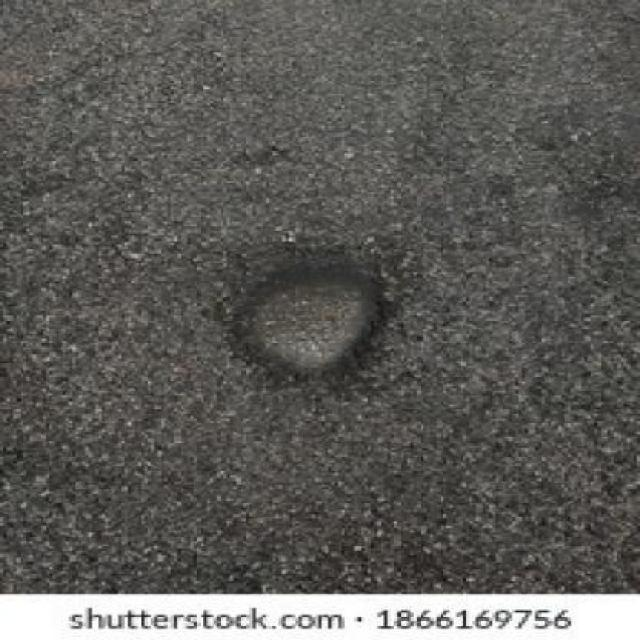Buraco: (220, 256, 403, 394)
